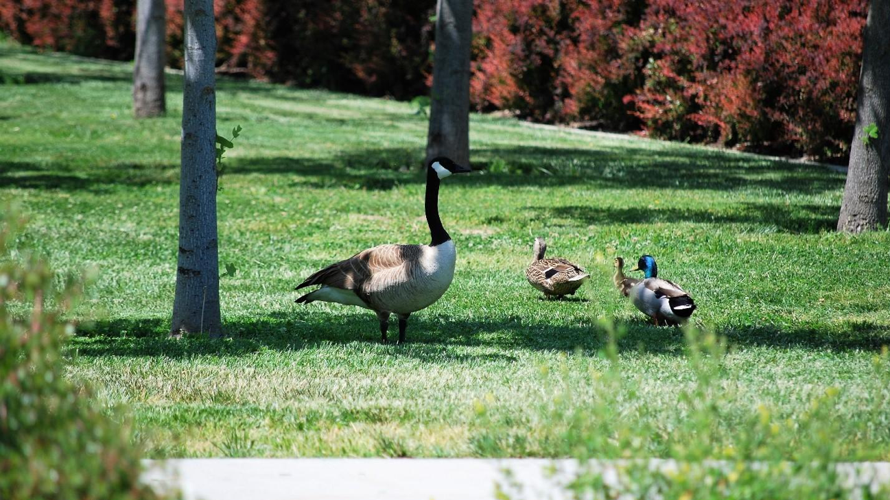goose: (291, 155, 462, 346), (628, 254, 697, 335), (522, 234, 593, 304)
